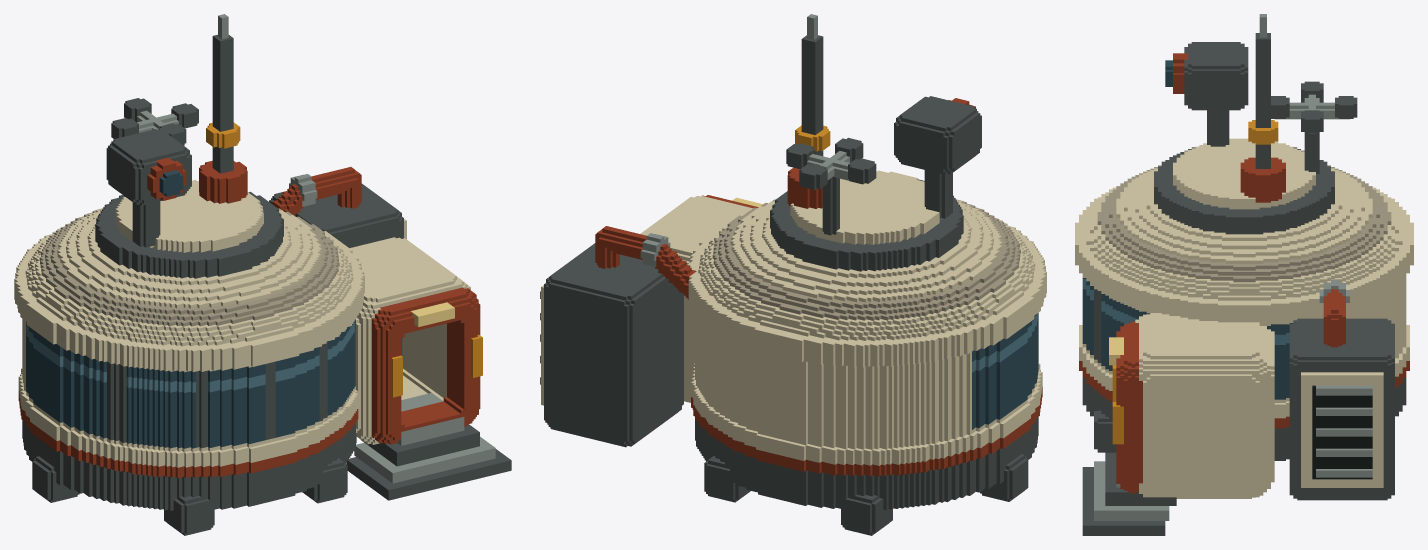
The model's file is volcano_observatory.glb.
3 views of the same model, side by side, from view 1: azimuth 30°, elevation 25°; view 2: azimuth 150°, elevation 25°; view 3: azimuth 270°, elevation 25° (orthographic). The views are drawn at different scales.
Visible parts, largest first — view 1: volcano_observatory; view 2: volcano_observatory; view 3: volcano_observatory.
Part boxes in pixels (x1=…): volcano_observatory: x1=14, y1=14, x2=511, y2=535; volcano_observatory: x1=540, y1=14, x2=1046, y2=535; volcano_observatory: x1=1075, y1=14, x2=1413, y2=535.
Size of the model in its own units: 6.05 by 6.25 by 4.5.
